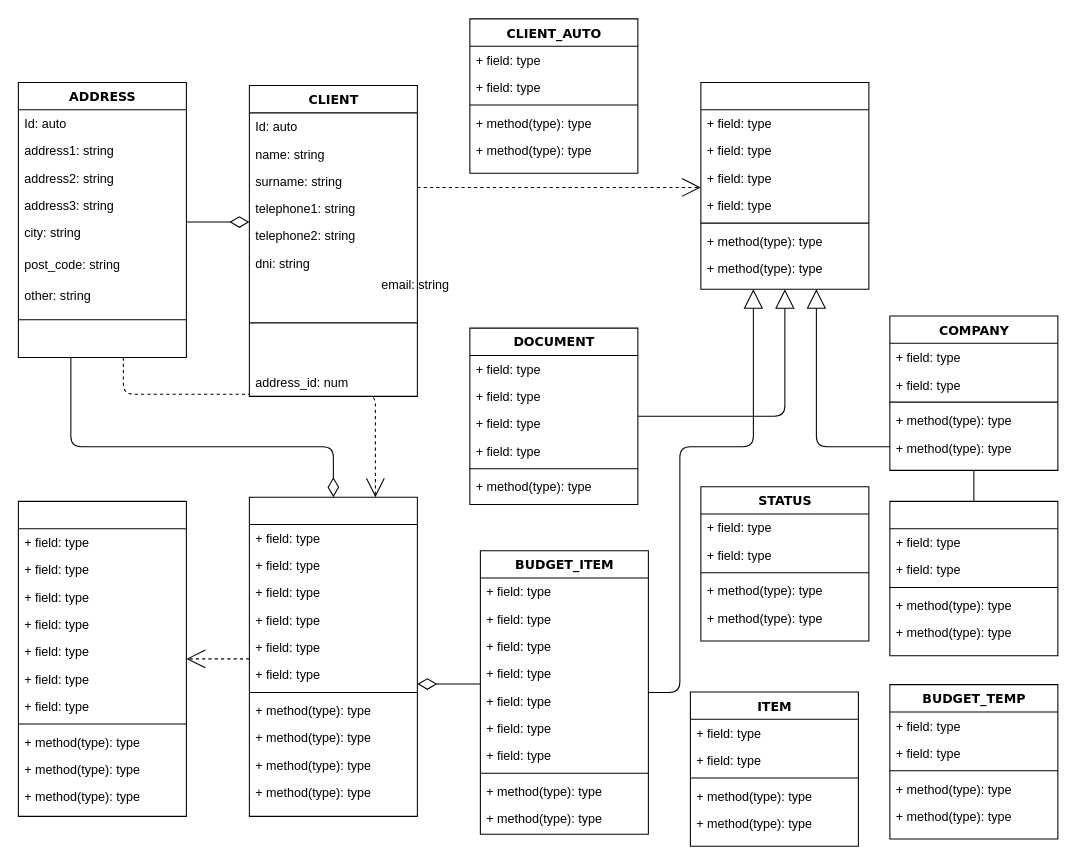
This 1076x864 diagram has some shape labels left out. Here are the shapes that lost their labels. From the top down, the box of each, then its label:
(700, 81, 869, 289): BUDGET
(889, 500, 1058, 656): BUDGET_TEMP_ITEM
(17, 500, 186, 816): ITV_LOG
(248, 496, 417, 816): AUTO
